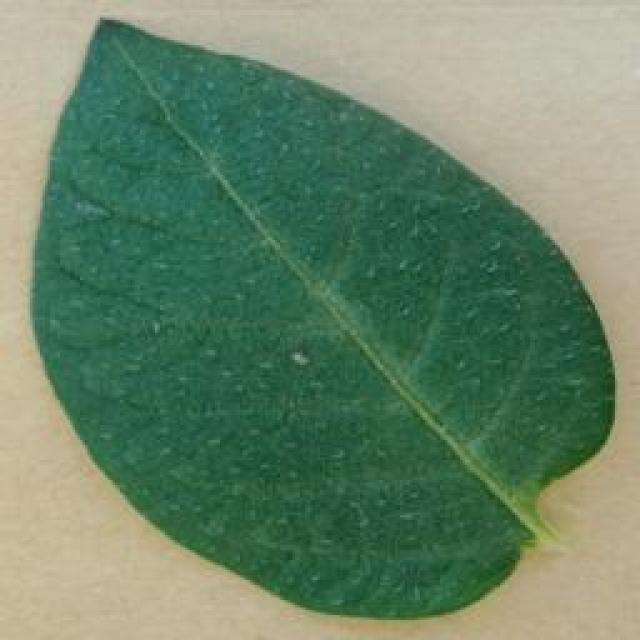Potato_Healthy: (30, 20, 606, 618)
